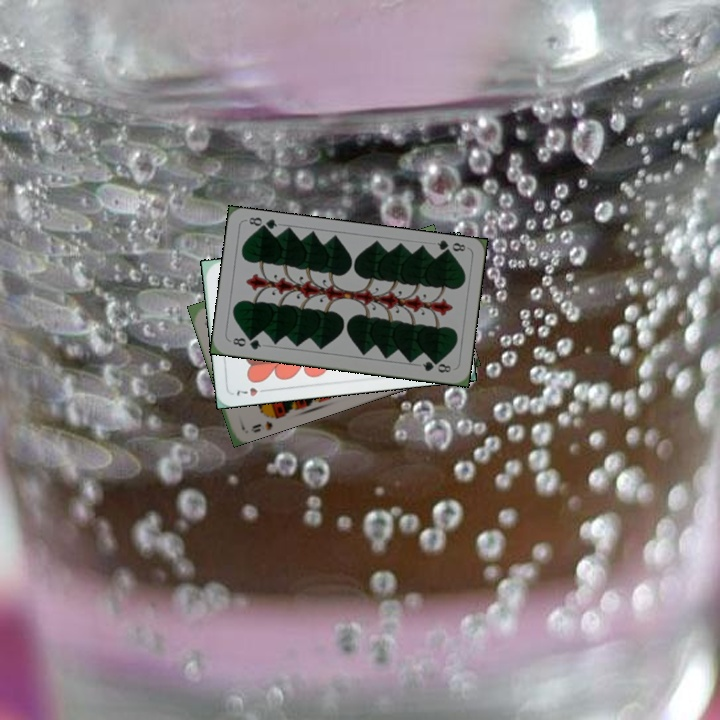G8: (433, 237, 468, 258), (228, 333, 264, 352)
H7: (232, 383, 271, 399)
S9: (247, 408, 282, 435)
